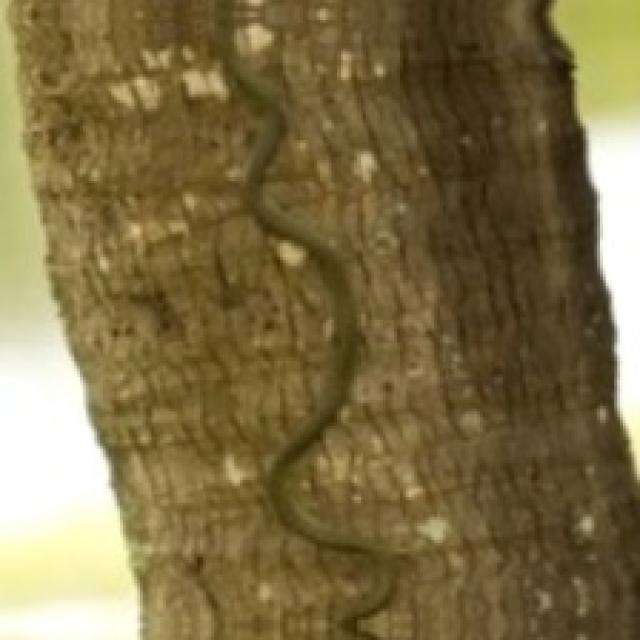paradise tree snake: (211, 0, 637, 637), (211, 0, 406, 637)
